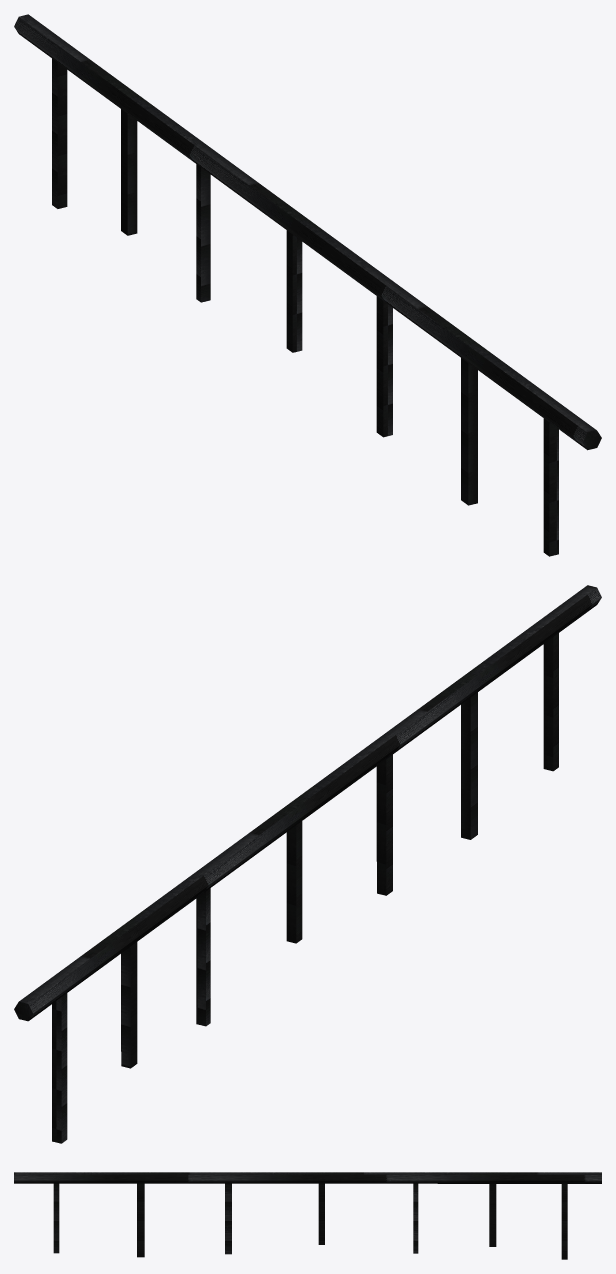
Rendered from railing.glb.
The picture shows the model from 3 angles, top to bottom: view 1: azimuth 30°, elevation 25°; view 2: azimuth 150°, elevation 25°; view 3: azimuth 270°, elevation 25°; orthographic projection. The views are drawn at different scales.
Visible parts, largest first — view 1: Cylinder.001; view 2: Cylinder.001; view 3: Cylinder.001.
Part boxes in pixels (box(x1,y1,x2,y2)): Cylinder.001: box(14, 14, 601, 556); Cylinder.001: box(14, 585, 601, 1143); Cylinder.001: box(14, 1172, 601, 1259).
Size of the model in its own units: 0.4705 by 3.83 by 24.05.
Materials: 1 (1 with a texture image).
